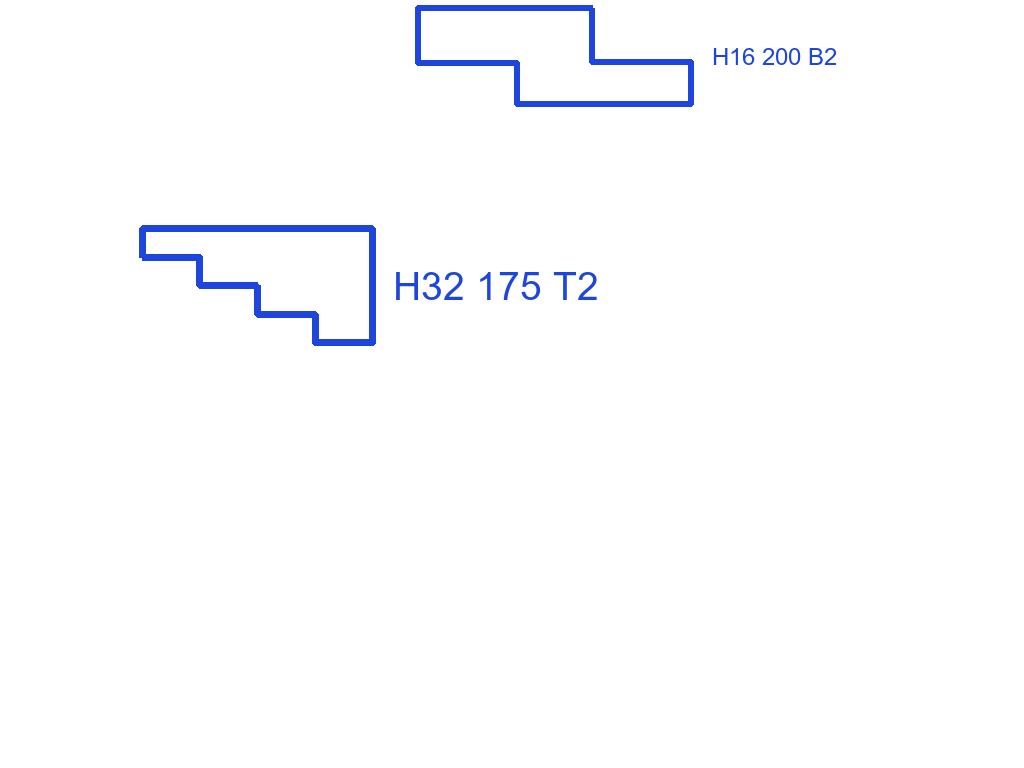shape: (137, 223, 378, 348), (412, 4, 697, 108)
text: (391, 270, 601, 302), (710, 46, 839, 67)
